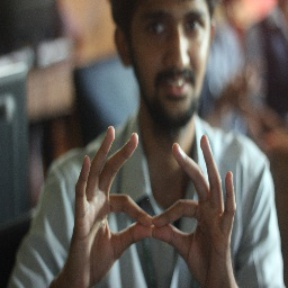B: (95, 172, 214, 270)
